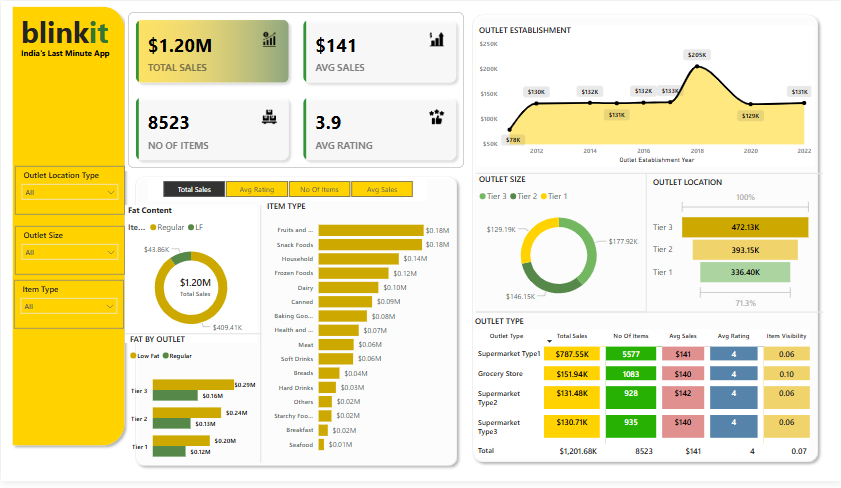

What the dashboard file says about the page in this screenshot:
{"tool":"powerbi","page":{"name":"Page 1","canvas":[1400,800],"ordinal":0},"visuals":[{"type":"shape","box":[10,0,205,750],"z":0},{"type":"textbox","box":[28.8,13.8,186.2,76.2],"z":1000},{"type":"textbox","box":[28.8,73.8,168.8,32.5],"z":2000},{"type":"cardVisual","fields":{"Data":["BlinkIT Grocery Data.Total Sales","BlinkIT Grocery Data.Avg Sales","BlinkIT Grocery Data.No Of Items","BlinkIT Grocery Data.Avg Rating"]},"box":[206.2,13.8,570,270],"z":3000},{"type":"shape","box":[215,283.8,554,500],"z":4000},{"type":"donutChart","title":"Fat Content","fields":{"Y":["BlinkIT Grocery Data.Total Sales"],"Category":["BlinkIT Grocery Data.Item Fat Content"]},"box":[206.2,340,220,230],"z":5000},{"type":"slicer","fields":{"Values":["Matrices.Parameter"]},"box":[245,292.5,465,40],"z":6000},{"type":"cardVisual","fields":{"Data":["BlinkIT Grocery Data.Total Sales"]},"box":[278.8,441.2,91.2,70],"z":7000},{"type":"clusteredBarChart","title":"FAT BY OUTLET","fields":{"Y":["BlinkIT Grocery Data.Total Sales"],"Category":["BlinkIT Grocery Data.Outlet Location Type"],"Series":["BlinkIT Grocery Data.Item Fat Content"]},"box":[210,555,220,230],"z":8000},{"type":"shape","box":[206.2,547.5,226.2,12.5],"z":9000},{"type":"shape","box":[426.2,340,12.5,430],"z":10000},{"type":"barChart","title":"ITEM TYPE","fields":{"Y":["BlinkIT Grocery Data.Total Sales"],"Category":["BlinkIT Grocery Data.Item Type"]},"box":[438.8,332.5,313.8,430],"z":11000},{"type":"shape","box":[776,14,594,764],"z":12000},{"type":"lineChart","title":"OUTLET ESTABLISHMENT","fields":{"Category":["BlinkIT Grocery Data.Outlet Establishment Year"],"Y":["BlinkIT Grocery Data.Total Sales"]},"box":[792,40,564,236],"z":13000},{"type":"shape","box":[792,284,578,8],"z":14000},{"type":"donutChart","title":"OUTLET SIZE","fields":{"Y":["BlinkIT Grocery Data.Total Sales"],"Category":["BlinkIT Grocery Data.Outlet Location Type"]},"box":[791.4,288.6,275.7,225.7],"z":15000},{"type":"shape","box":[1070,288.6,11.4,230],"z":16000},{"type":"shape","box":[791.4,511.4,282.9,12.9],"z":17000},{"type":"funnel","title":"OUTLET LOCATION","fields":{"Y":["Sum(BlinkIT Grocery Data.Sales)"],"Category":["BlinkIT Grocery Data.Outlet Location Type"]},"box":[1081.4,292.9,274.3,225.7],"z":18000},{"type":"shape","box":[791.4,514.3,578.6,7.1],"z":19000},{"type":"pivotTable","title":"OUTLET TYPE","fields":{"Rows":["BlinkIT Grocery Data.Outlet Type"],"Values":["BlinkIT Grocery Data.Total Sales","BlinkIT Grocery Data.No Of Items","BlinkIT Grocery Data.Avg Sales","BlinkIT Grocery Data.Avg Rating","Avg(BlinkIT Grocery Data.Item Visibility)"]},"box":[785.7,524.3,578.6,254.3],"z":20000},{"type":"slicer","fields":{"Values":["BlinkIT Grocery Data.Outlet Location Type"]},"box":[22.9,275.7,182.9,81.4],"z":21000},{"type":"slicer","fields":{"Values":["BlinkIT Grocery Data.Outlet Size"]},"box":[22.9,375.7,182.9,81.4],"z":22000},{"type":"slicer","fields":{"Values":["BlinkIT Grocery Data.Item Type"]},"box":[21.4,465.7,182.9,81.4],"z":23000}]}

Visuals, with their boxes in screenshot pixels (x1, y1, x2, y2), scaled from the page's 1400x800 canvas onto the 841x488 screenshot:
shape: x1=6, y1=0, x2=129, y2=458
textbox: x1=17, y1=8, x2=129, y2=55
textbox: x1=17, y1=45, x2=119, y2=65
cardVisual - BlinkIT Grocery Data.Total Sales x BlinkIT Grocery Data.Avg Sales: x1=124, y1=8, x2=466, y2=173
shape: x1=129, y1=173, x2=462, y2=478
"Fat Content" donutChart: x1=124, y1=207, x2=256, y2=348
slicer - Matrices.Parameter: x1=147, y1=178, x2=427, y2=203
cardVisual - BlinkIT Grocery Data.Total Sales: x1=167, y1=269, x2=222, y2=312
"FAT BY OUTLET" clusteredBarChart: x1=126, y1=339, x2=258, y2=479
shape: x1=124, y1=334, x2=260, y2=342
shape: x1=256, y1=207, x2=264, y2=470
"ITEM TYPE" barChart: x1=264, y1=203, x2=452, y2=465
shape: x1=466, y1=9, x2=823, y2=475
"OUTLET ESTABLISHMENT" lineChart: x1=476, y1=24, x2=815, y2=168
shape: x1=476, y1=173, x2=823, y2=178
"OUTLET SIZE" donutChart: x1=475, y1=176, x2=641, y2=314
shape: x1=643, y1=176, x2=650, y2=316
shape: x1=475, y1=312, x2=645, y2=320
"OUTLET LOCATION" funnel: x1=650, y1=179, x2=814, y2=316
shape: x1=475, y1=314, x2=823, y2=318
"OUTLET TYPE" pivotTable: x1=472, y1=320, x2=820, y2=475
slicer - BlinkIT Grocery Data.Outlet Location Type: x1=14, y1=168, x2=124, y2=218
slicer - BlinkIT Grocery Data.Outlet Size: x1=14, y1=229, x2=124, y2=279
slicer - BlinkIT Grocery Data.Item Type: x1=13, y1=284, x2=123, y2=334
